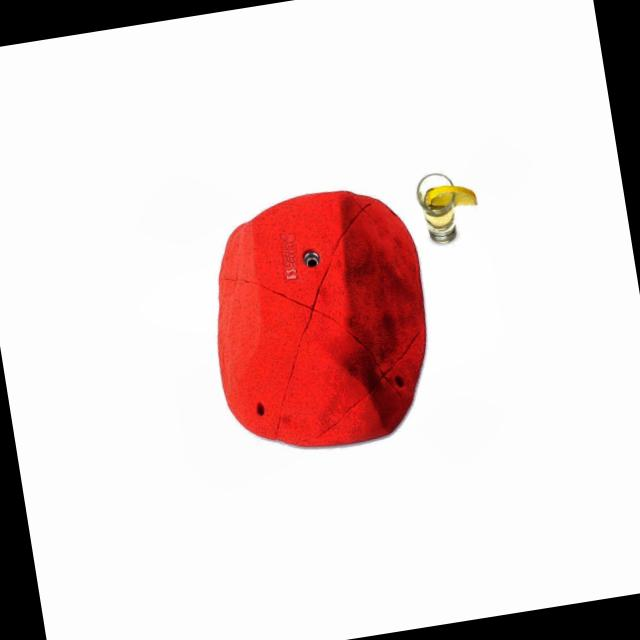Hold: (196, 168, 449, 470)
